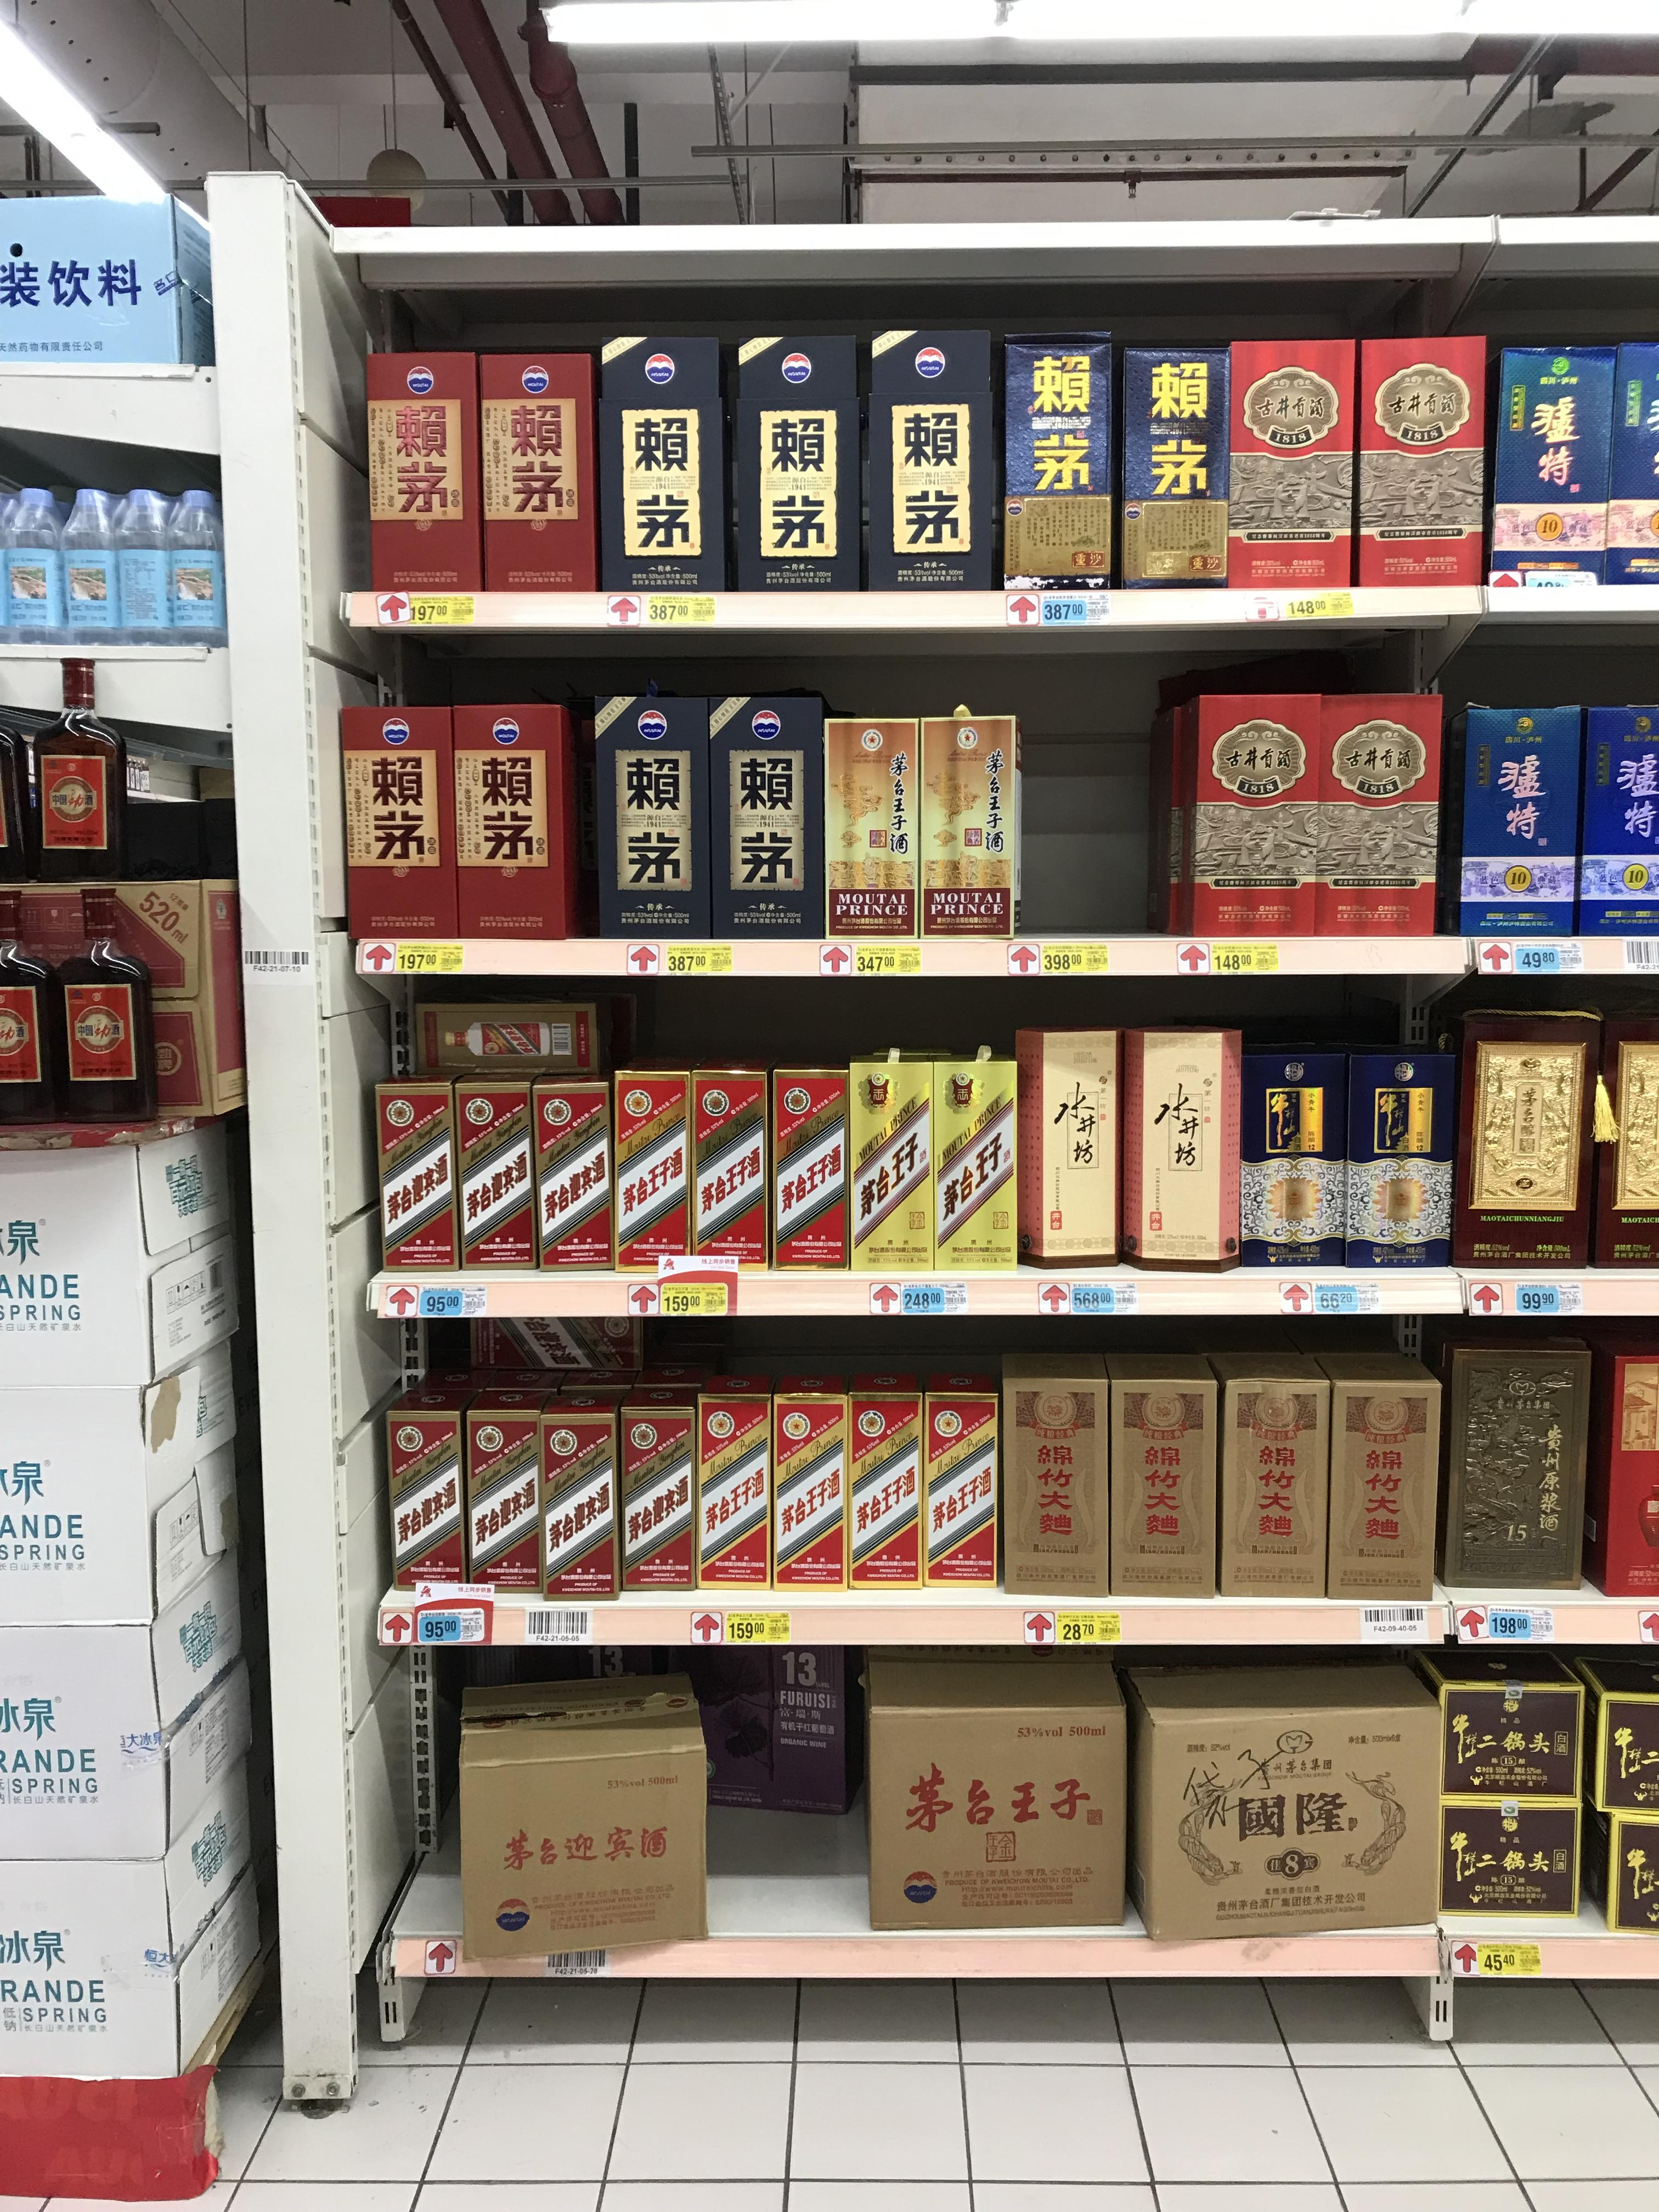bag: (1352, 331, 1481, 582), (1218, 338, 1349, 583), (1495, 340, 1621, 571), (1464, 704, 1574, 920), (1575, 712, 1657, 923)
bottle: (732, 326, 859, 594), (605, 329, 725, 592), (870, 326, 988, 592), (1368, 1036, 1455, 1263), (26, 671, 117, 885), (1269, 1055, 1345, 1273), (1340, 1050, 1408, 1268), (59, 488, 136, 643), (2, 488, 77, 643), (112, 488, 178, 650), (159, 486, 223, 650)
box: (1446, 991, 1600, 1263), (1438, 1327, 1589, 1587), (350, 343, 495, 599), (1124, 1022, 1239, 1271), (1002, 329, 1112, 583), (1114, 343, 1223, 585), (711, 697, 821, 935), (1011, 1024, 1119, 1266), (1211, 1376, 1331, 1585), (1321, 1371, 1434, 1585), (1103, 1372, 1218, 1583), (1000, 1366, 1103, 1580), (1579, 1331, 1657, 1595), (756, 1381, 857, 1583), (924, 1052, 1016, 1266), (929, 707, 1014, 935), (840, 1372, 932, 1583), (823, 712, 910, 935), (911, 1374, 1004, 1581), (857, 1050, 945, 1266), (373, 1066, 464, 1264), (380, 1397, 476, 1580), (772, 1064, 856, 1270), (617, 1390, 702, 1587), (694, 1378, 774, 1587), (462, 1073, 545, 1271), (538, 1395, 620, 1595), (613, 1068, 695, 1263), (688, 1069, 769, 1264), (540, 1069, 617, 1271), (467, 1397, 549, 1583), (429, 998, 598, 1073)
bucket: (44, 890, 160, 1122), (0, 904, 73, 1115)
jar: (446, 697, 582, 939), (472, 340, 591, 589), (343, 695, 457, 937), (598, 685, 702, 939)
others: (10, 1237, 301, 2101), (0, 1087, 251, 1763), (1122, 1667, 1452, 1949), (845, 1665, 1150, 1939), (451, 1669, 720, 1958), (1162, 685, 1455, 934), (5, 1979, 232, 2205), (1432, 1651, 1603, 1907)
